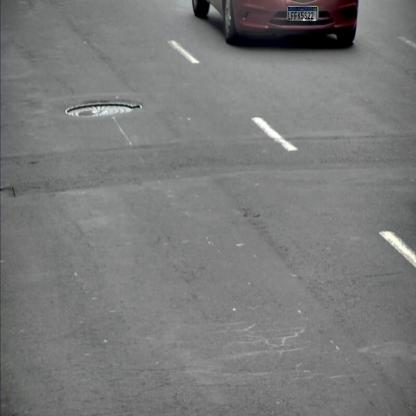PlacaM: (288, 7, 317, 21)
